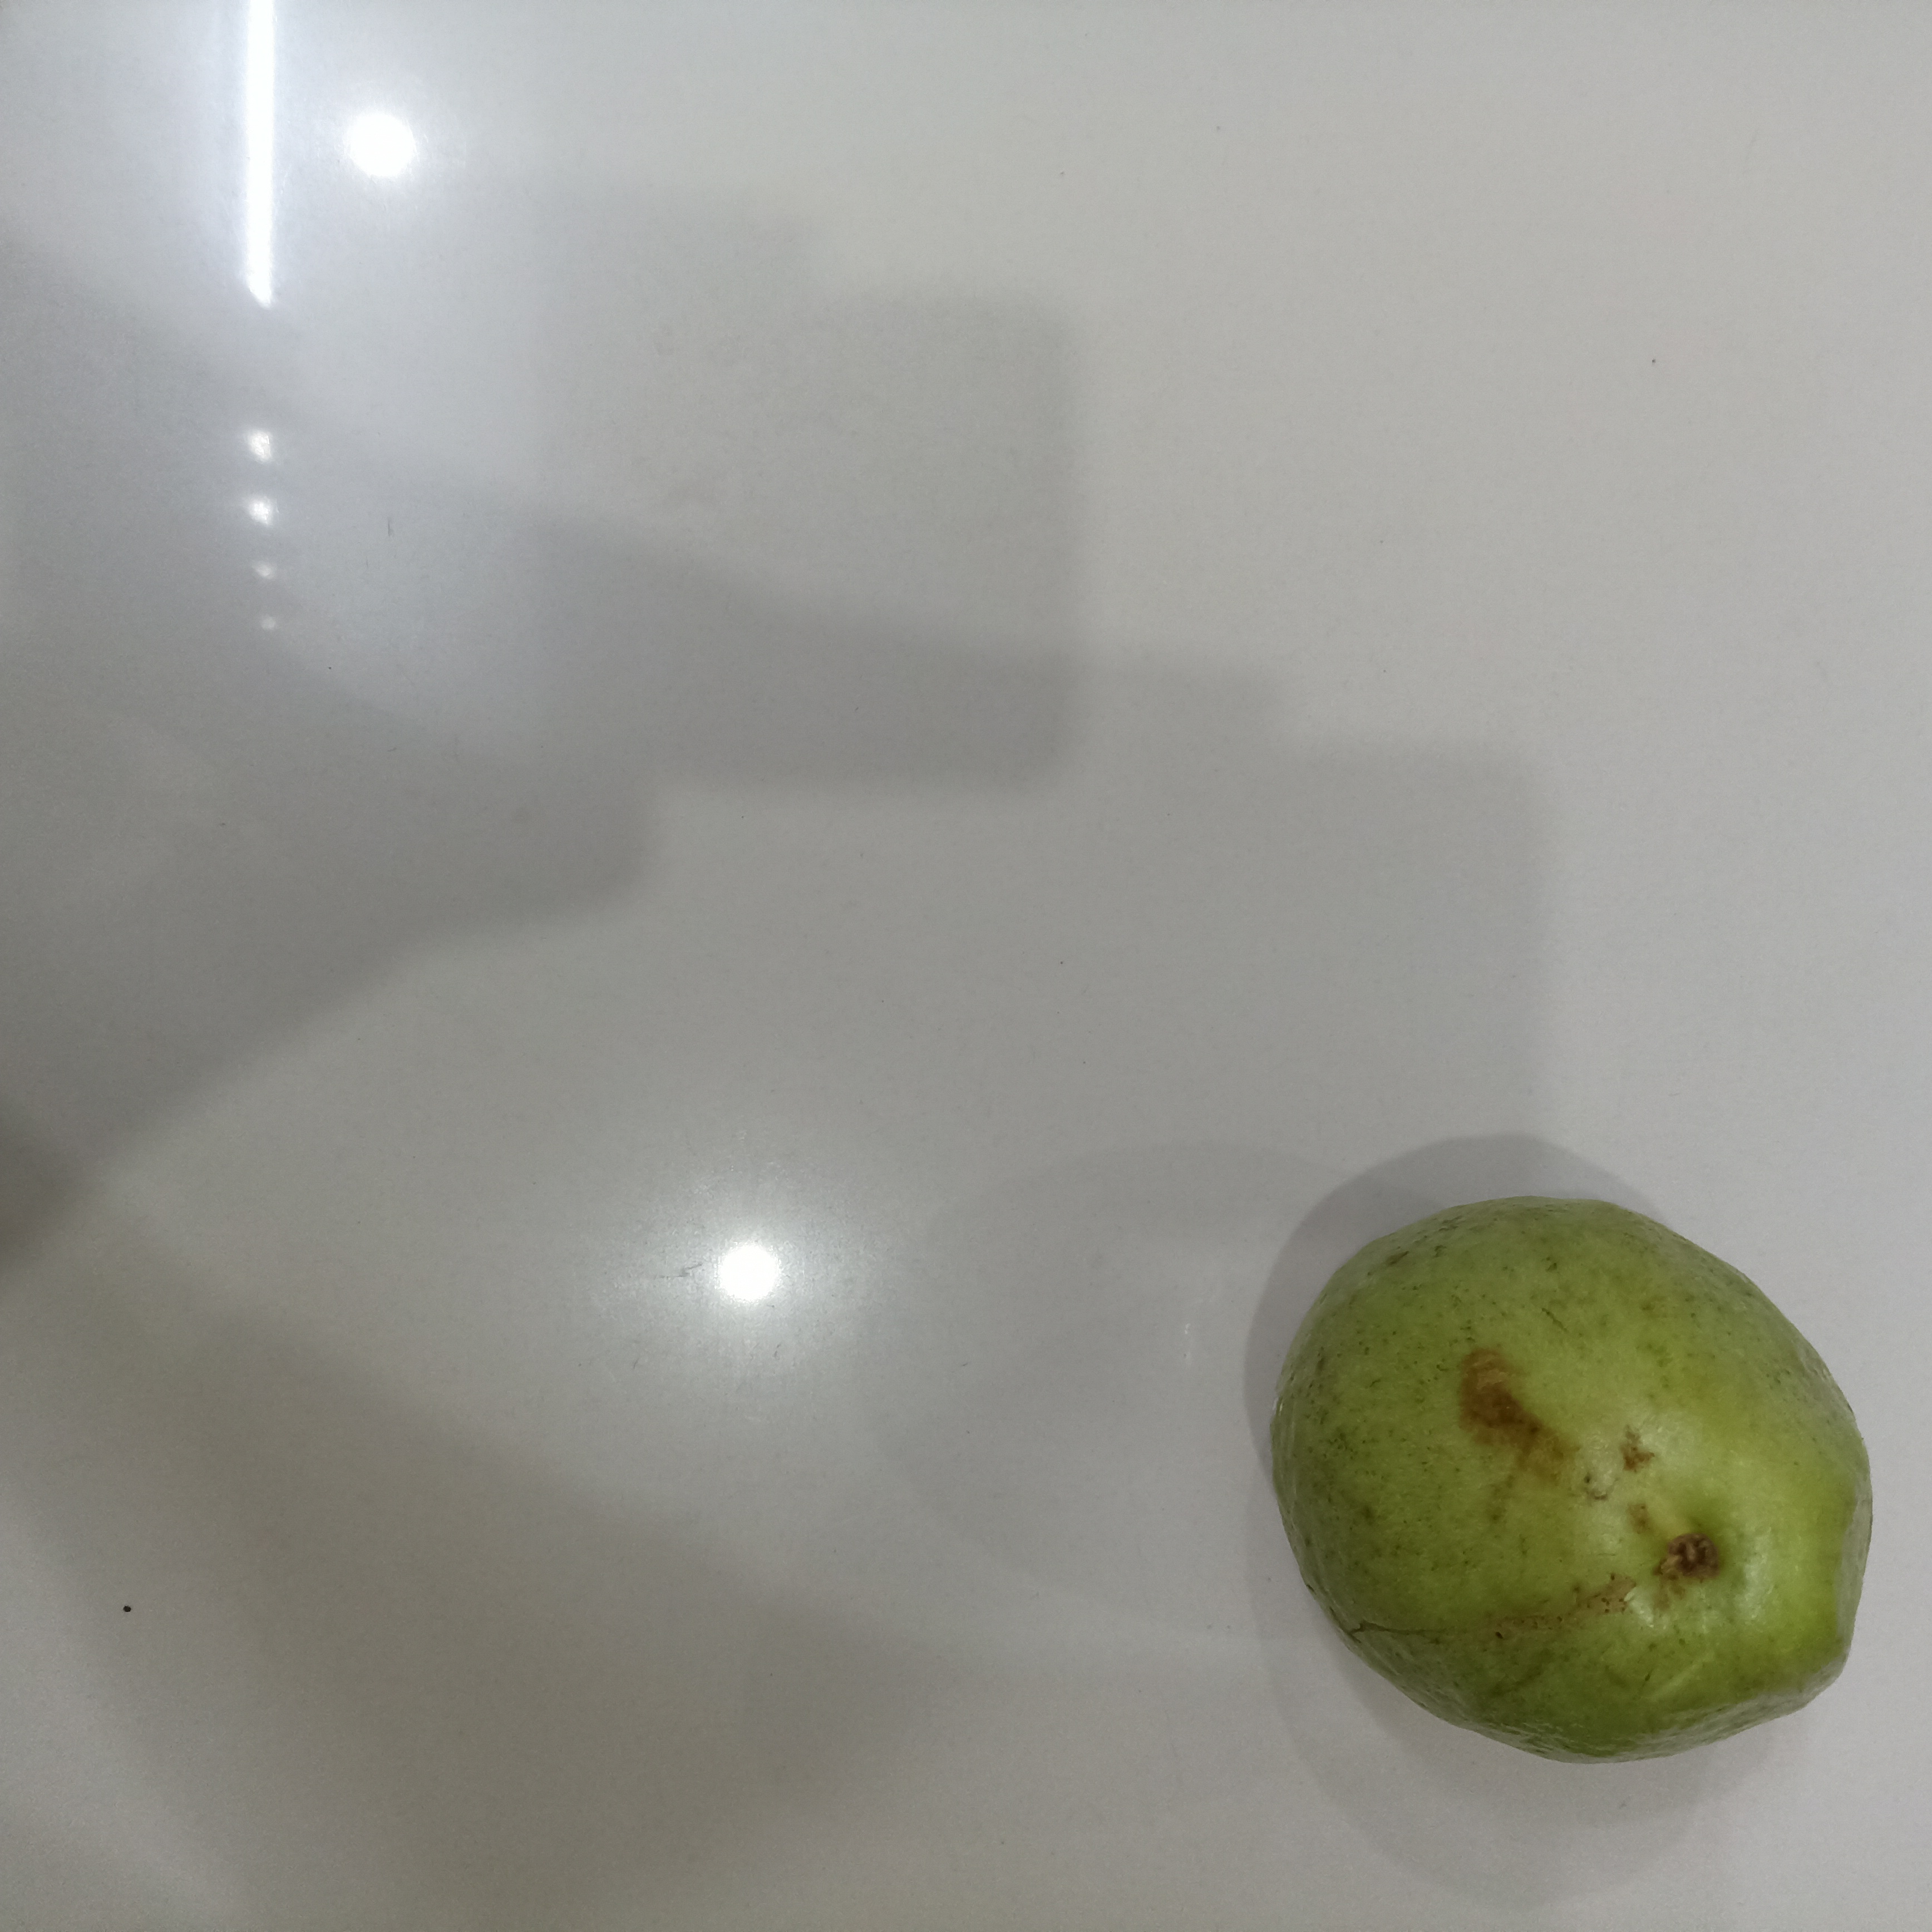Oi: (1264, 1194, 1869, 1768)
